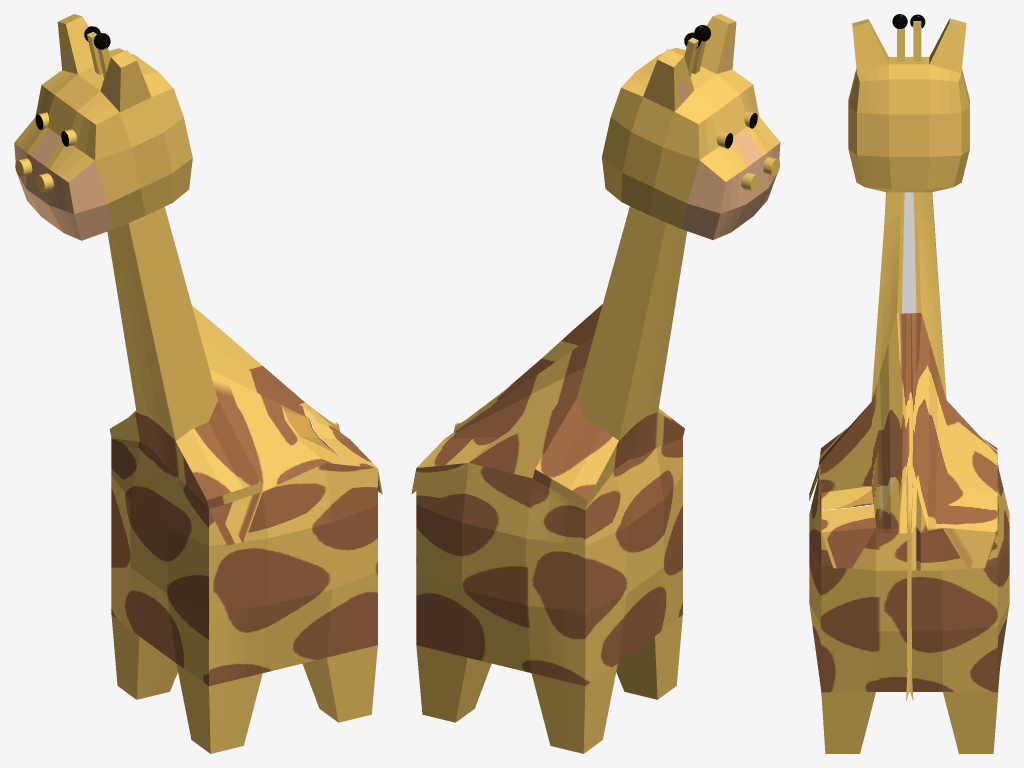
Rendered from rafrafAR.gltf.
The picture shows the model from 3 angles, left to right: view 1: azimuth 30°, elevation 25°; view 2: azimuth 150°, elevation 25°; view 3: azimuth 270°, elevation 25°; orthographic projection. The views are drawn at different scales.
Visible parts, largest first — view 1: Cube, Cube.002, Cube.001, Cube.003; view 2: Cube, Cube.003, Cube.004, Cube.002; view 3: Cube, Cube.004, Cube.001.
Boxes of the visible parts, box(x1,y1,x2,y2) form: Cube: box(14, 14, 382, 686); Cube.002: box(176, 663, 262, 753); Cube.001: box(302, 645, 377, 722); Cube.003: box(111, 615, 177, 699); Cube: box(411, 14, 780, 685); Cube.003: box(531, 663, 617, 753); Cube.004: box(416, 645, 491, 722); Cube.002: box(616, 615, 682, 699); Cube: box(809, 14, 1009, 701); Cube.004: box(943, 670, 999, 753); Cube.001: box(820, 688, 875, 753).
Bounding box in the file's own units: 3.61 × 7.03 × 2.
5 materials, 1 textured.
